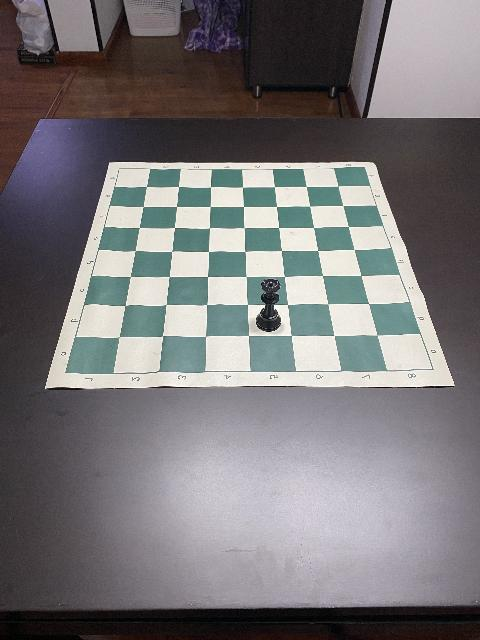black-queen: (255, 276, 283, 332)
board: (45, 160, 455, 388)
